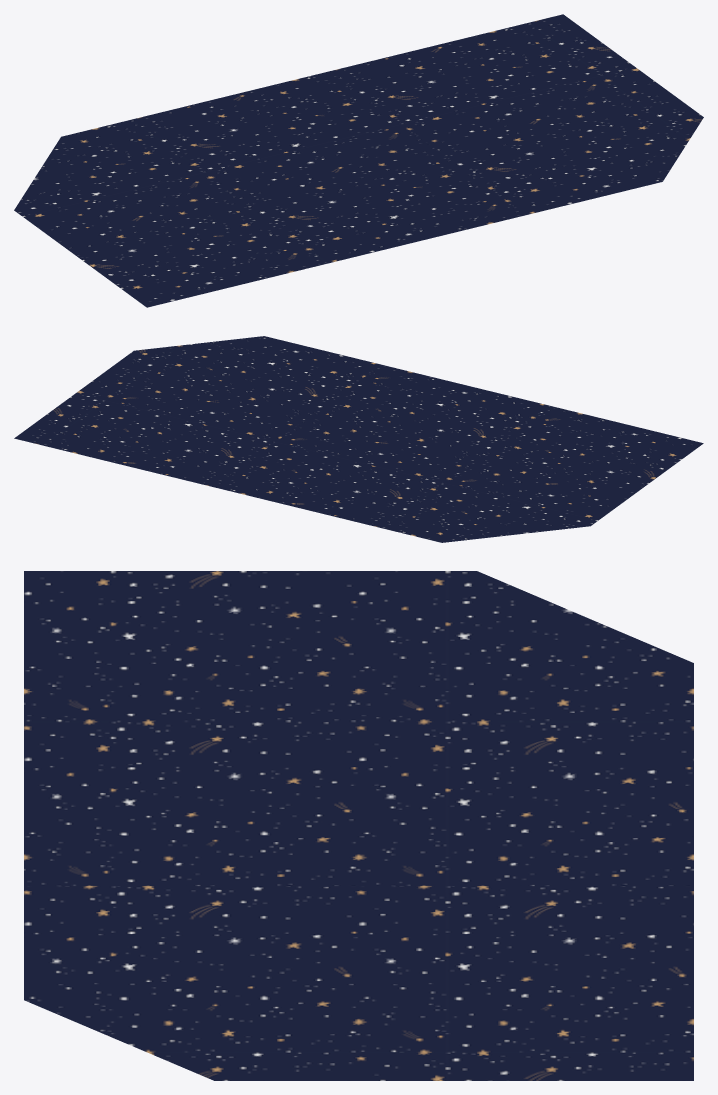
Rendered from Roof.fbx.
3 views of the same model, one above another, from view 1: azimuth 30°, elevation 25°; view 2: azimuth 150°, elevation 25°; view 3: azimuth 270°, elevation 25° (orthographic). The views are drawn at different scales.
Visible parts, largest first — view 1: Roof; view 2: Roof; view 3: Roof.
Part boxes in pixels (x1=…): Roof: x1=14, y1=14, x2=703, y2=307; Roof: x1=14, y1=336, x2=703, y2=542; Roof: x1=24, y1=571, x2=693, y2=1080.
Size of the model in its own units: 72 by 0 by 40.
Materials: 1 (1 with a texture image).
